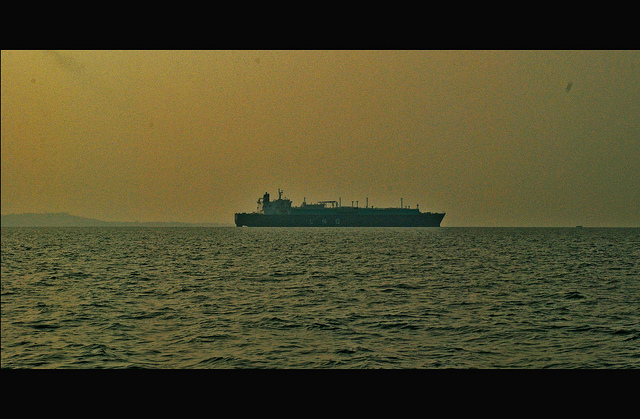LNG_ship: (235, 192, 451, 228)
